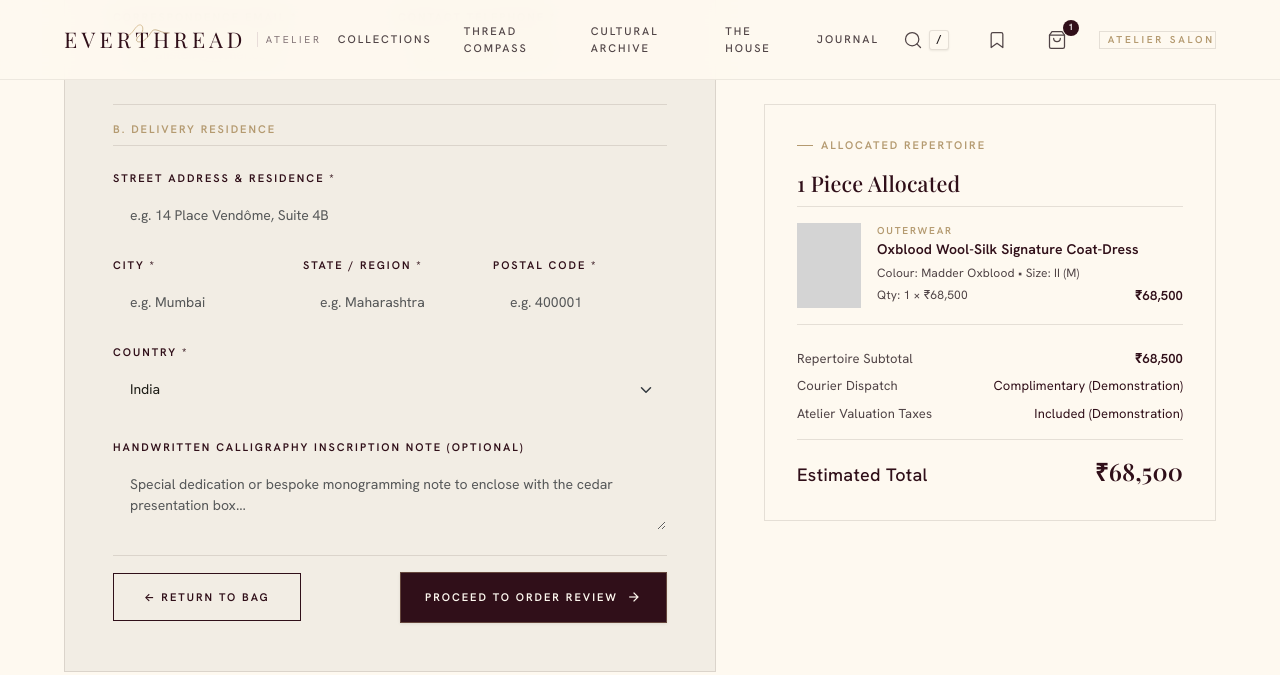
Test: EverThread Stage 3.6: Demo Concierge Checkout Suite › 2. Required-Field Validation on Step 1 › blocks advancing and renders field error messages when submitting empty form
The image size is (1280, 675).
(page scrolled)
Click "Proceed to Order Review" without filling fields
Click the button with test id "proceed-to-review-btn". click: [534, 597]
box: [400, 572, 667, 622]
(page scrolled)
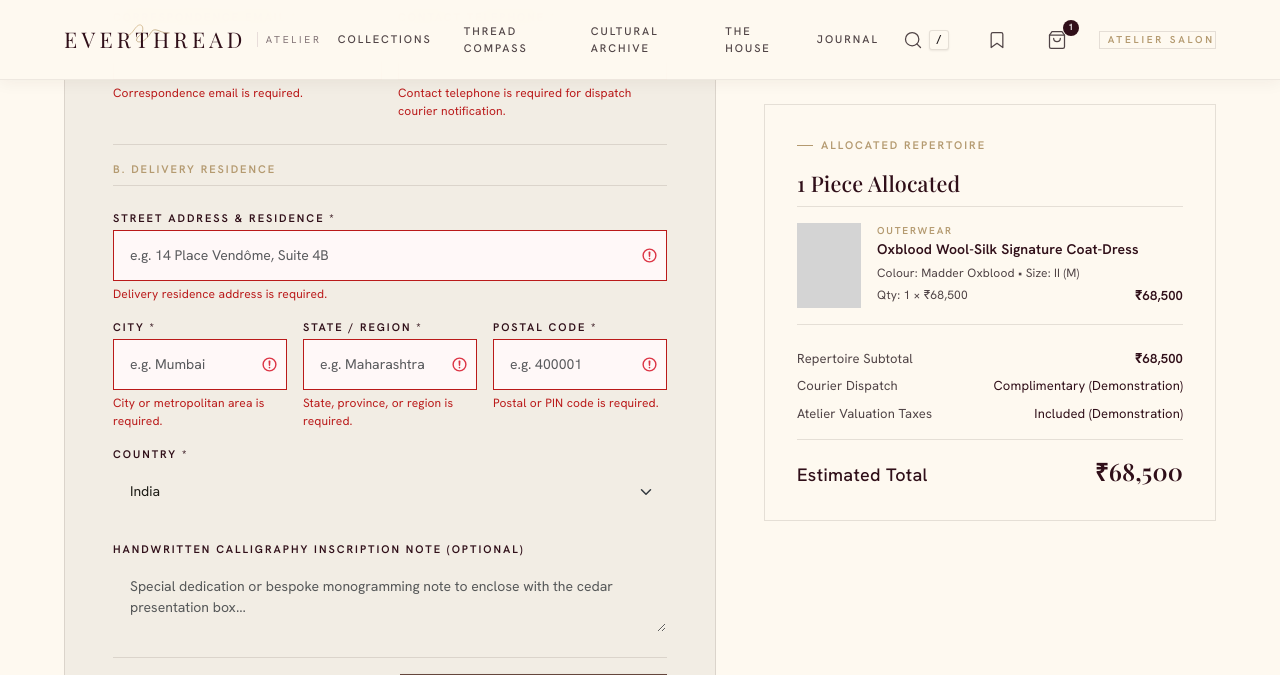
Result: the message with test id "error-email" shows "Correspondence email is required" at [113, 85, 303, 101]
Result: the message with test id "error-phone" shows "Contact telephone is required" at [398, 85, 632, 119]
Result: the message with test id "error-address" shows "Delivery residence address is required" at [113, 286, 327, 302]
